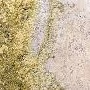Corrosion: (1, 1, 66, 90)
